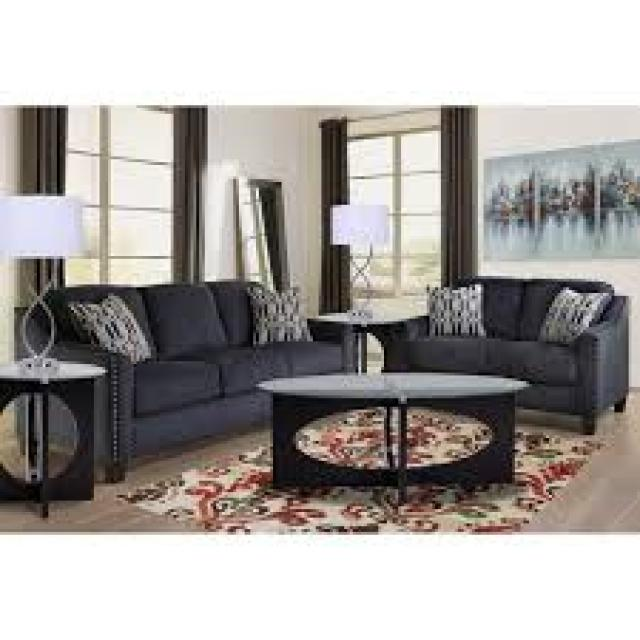Lamp: (4, 182, 82, 372), (322, 184, 392, 300)
Sofa: (6, 274, 344, 458), (373, 285, 635, 445)
Table: (252, 356, 530, 501), (6, 361, 110, 510), (318, 304, 398, 352)
